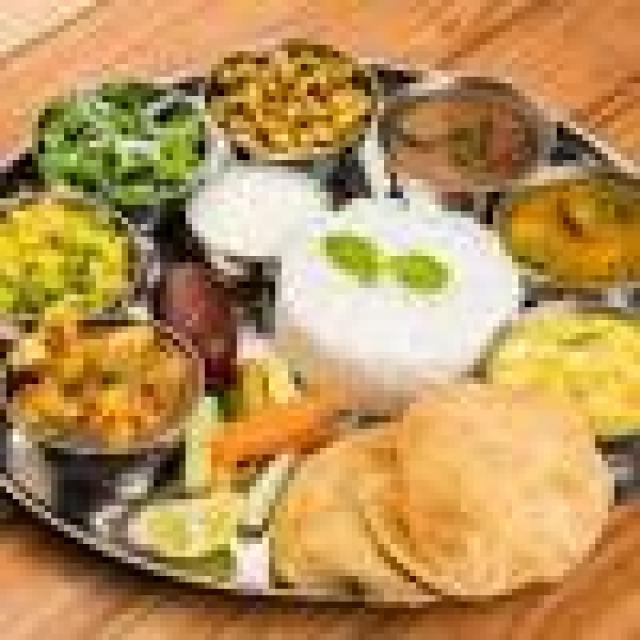curd: (174, 159, 337, 262)
dal: (492, 168, 632, 303)
papad: (3, 309, 211, 463)
rice: (288, 190, 517, 377)
sweet: (155, 262, 240, 340)
veg-fry: (202, 32, 375, 179)
